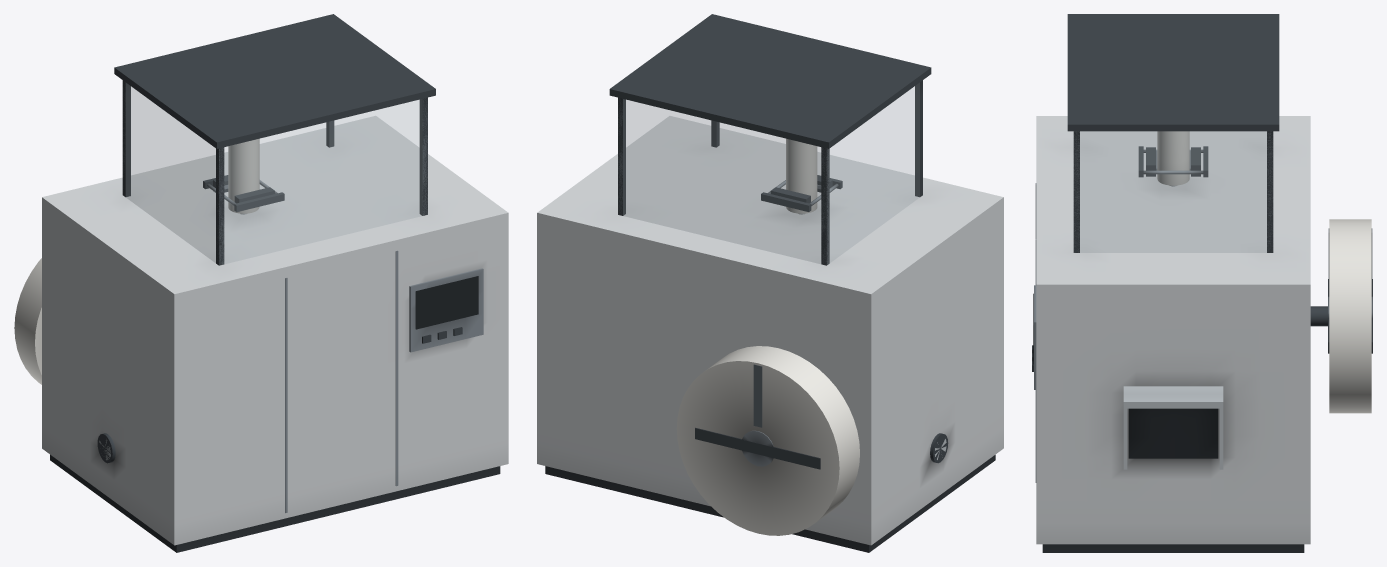
The model's file is aseptic-filler.glb.
The picture shows the model from 3 angles, left to right: view 1: azimuth 30°, elevation 25°; view 2: azimuth 150°, elevation 25°; view 3: azimuth 270°, elevation 25°; orthographic projection. The views are drawn at different scales.
Visible parts, largest first — view 1: body_paint, body_matte, body_glass, reel, jaws; view 2: body_paint, body_glass, body_matte, reel, jaws; view 3: body_paint, body_matte, body_glass, reel, jaws.
Part boxes in pixels (bbox=[...]): body_paint: bbox=[42, 115, 508, 545]; body_matte: bbox=[50, 14, 500, 552]; body_glass: bbox=[123, 83, 427, 264]; reel: bbox=[14, 258, 41, 384]; jaws: bbox=[203, 175, 284, 211]; body_paint: bbox=[537, 116, 1003, 545]; body_glass: bbox=[618, 83, 919, 264]; body_matte: bbox=[545, 14, 995, 552]; reel: bbox=[676, 346, 859, 535]; jaws: bbox=[761, 175, 842, 211]; body_paint: bbox=[1036, 116, 1310, 544]; body_matte: bbox=[1032, 14, 1328, 552]; body_glass: bbox=[1074, 131, 1270, 252]; reel: bbox=[1328, 219, 1372, 413]; jaws: bbox=[1138, 146, 1208, 177].
Bounding box in the file's own units: 3.53 × 3.56 × 2.73.
